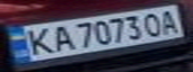0: (90, 17, 112, 46)
3: (121, 14, 145, 40)
7: (69, 20, 97, 48), (106, 15, 127, 43)
A: (45, 23, 75, 53), (154, 7, 184, 34)
K: (18, 25, 57, 56)
O: (139, 10, 169, 37)
